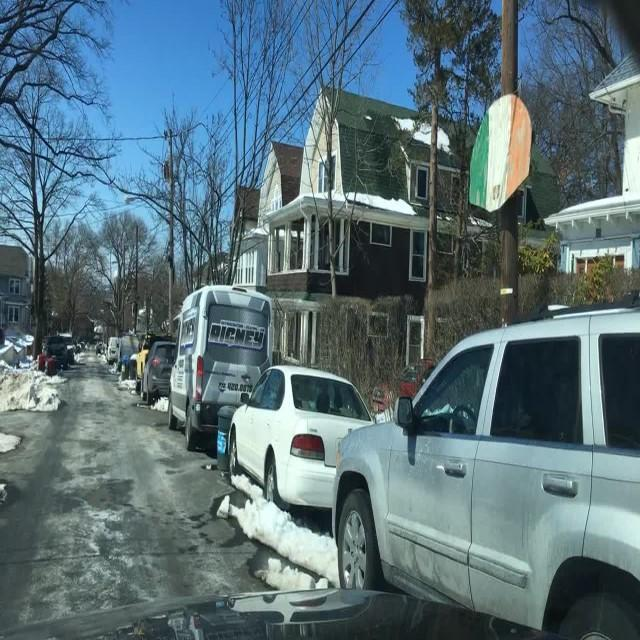normal: (102, 289, 640, 635)
